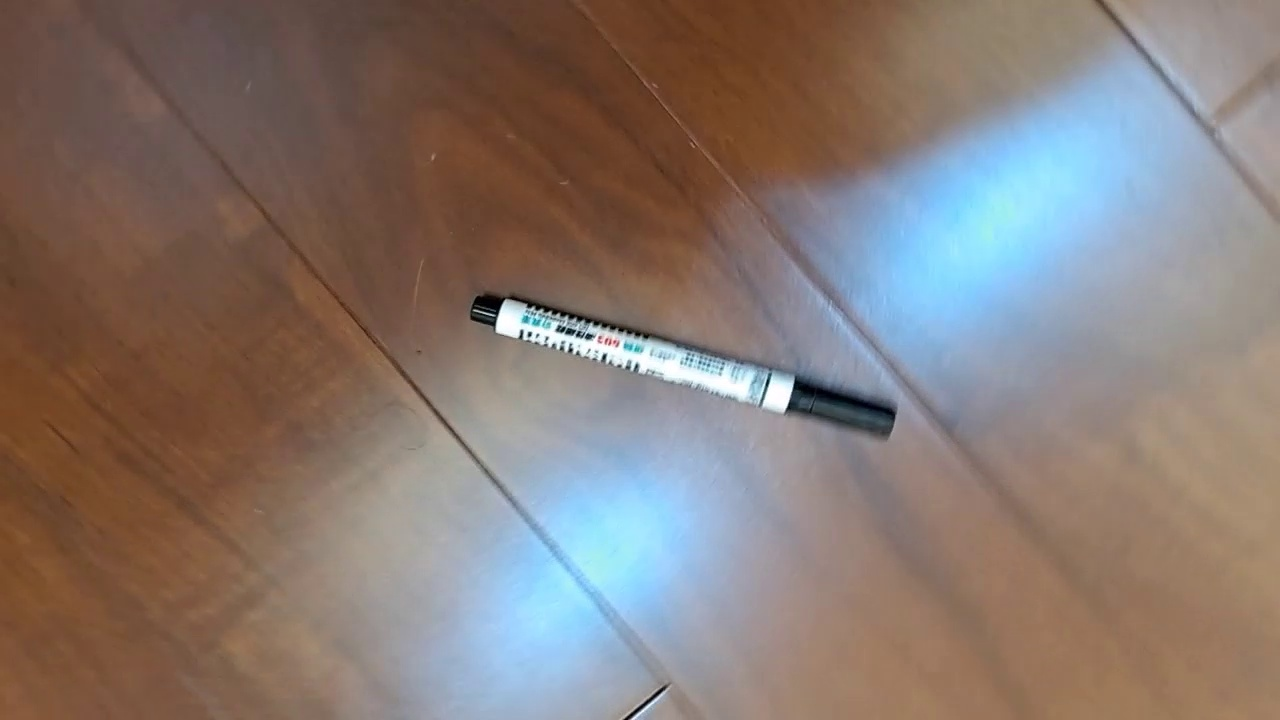pen: (469, 292, 898, 442)
